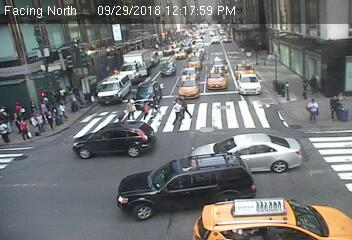car: (115, 158, 256, 211), (190, 196, 350, 240), (190, 132, 302, 175), (72, 123, 156, 159), (115, 49, 150, 80), (98, 75, 131, 101), (135, 81, 162, 110), (180, 72, 201, 98), (236, 75, 262, 95), (205, 69, 228, 91), (187, 49, 202, 69), (235, 64, 255, 76), (161, 61, 178, 75), (148, 51, 162, 67), (212, 58, 229, 71), (193, 41, 207, 55), (173, 46, 186, 60), (162, 44, 175, 53), (210, 35, 221, 43), (224, 35, 235, 42)
